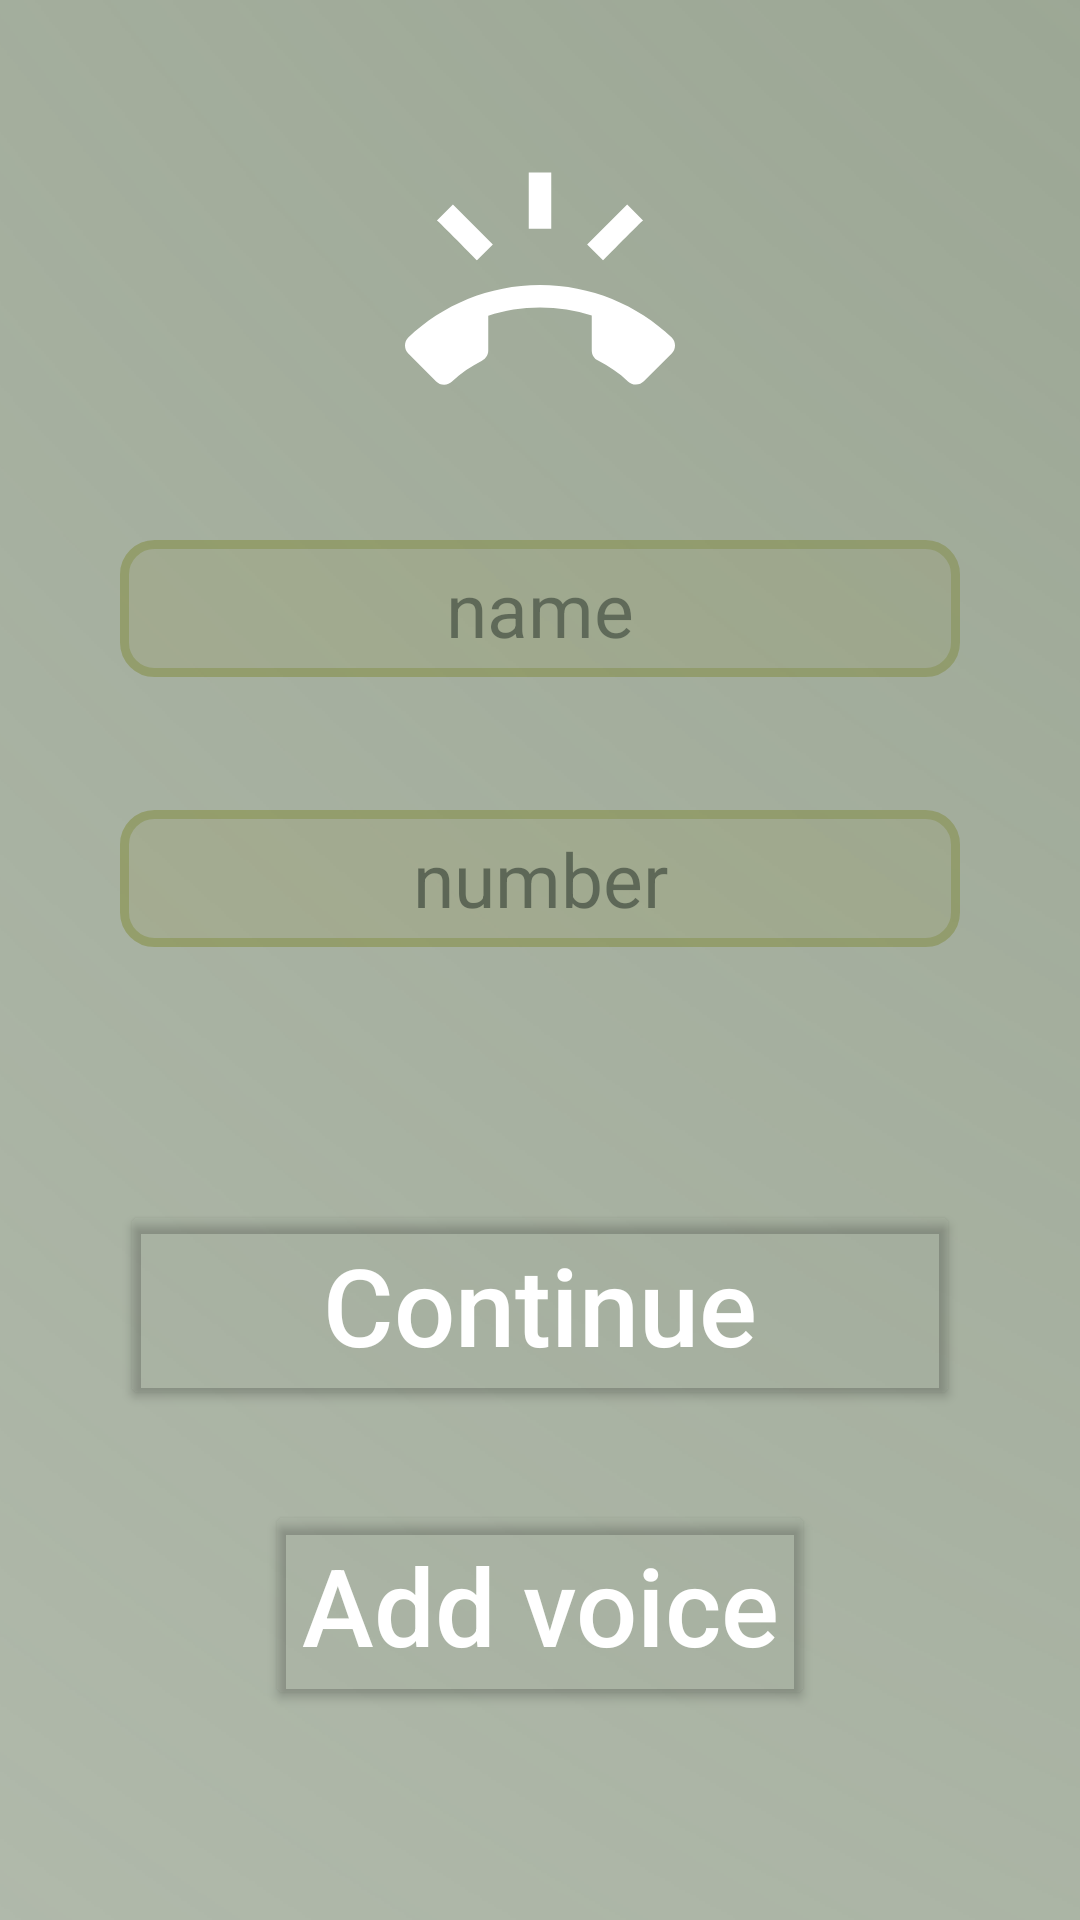

Locate icon controls on the screen. Image size 1080 x 1920, boxes as (x1, y1, x2, y2).
ring volume: (405, 172, 675, 385)
